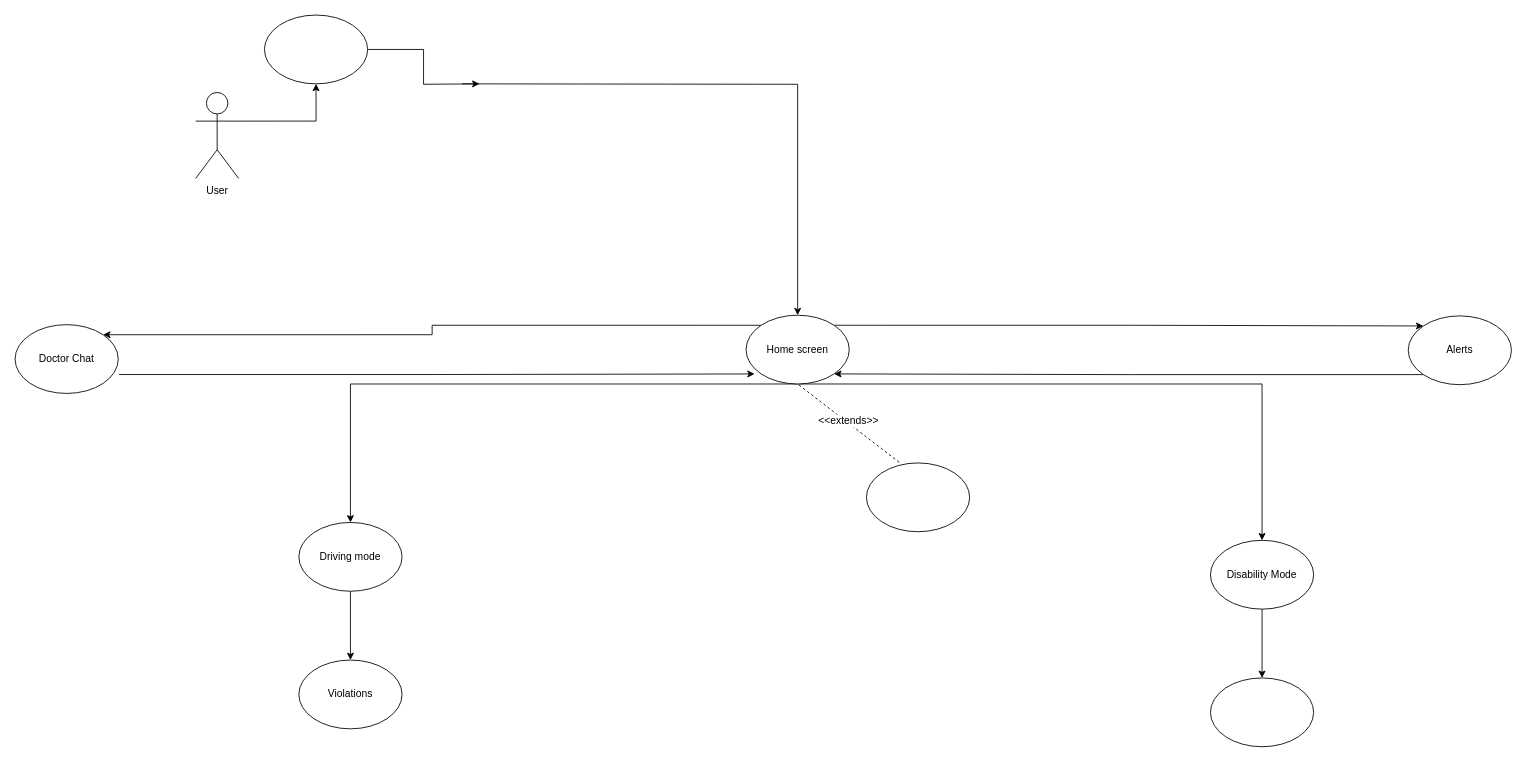
Image size: 1527x762. Some labels were removed from this diagram. Each missing label, with the centre of its shape:
"Call emergency contact" belongs at (1262,712).
"Settings" belongs at (918,497).
"Sign In with Google" belongs at (316,49).
